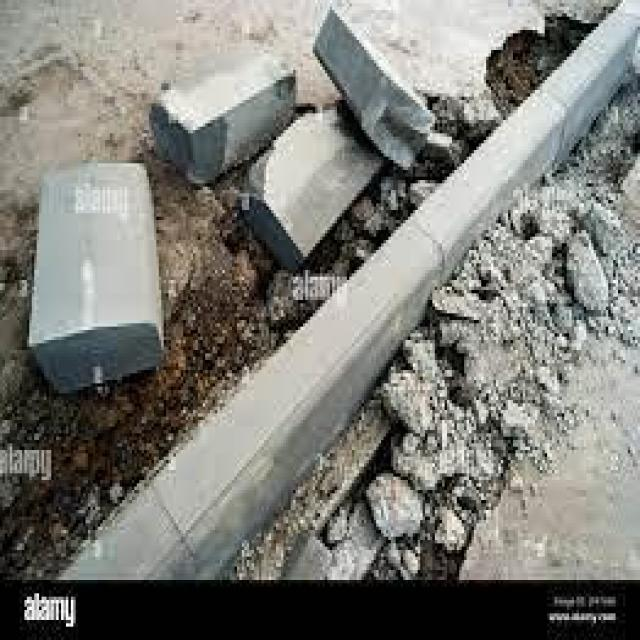curb: (147, 221, 446, 575), (28, 162, 170, 405), (416, 86, 568, 286), (144, 49, 301, 194)
